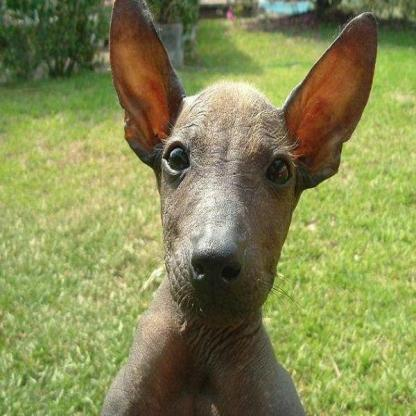Mexican_hairless: (93, 0, 375, 413)
